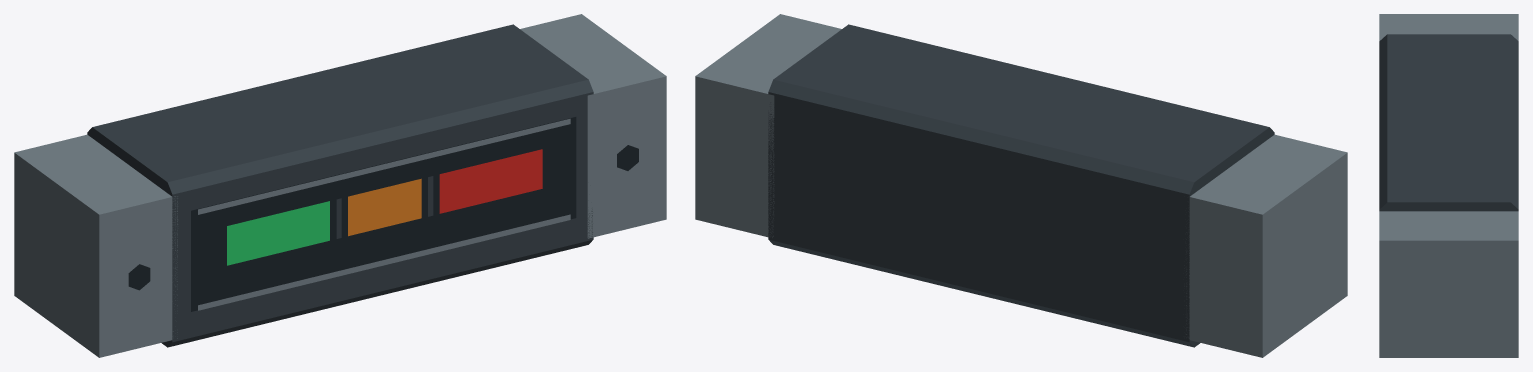
Rendered from 0-20261016-1900-ev048-r08-floor5-statuslightmount.fbx.
3 views of the same model, side by side, from view 1: azimuth 30°, elevation 25°; view 2: azimuth 150°, elevation 25°; view 3: azimuth 270°, elevation 25° (orthographic). The views are drawn at different scales.
Visible parts, largest first — view 1: SW_Ops_StatusLightMount; view 2: SW_Ops_StatusLightMount; view 3: SW_Ops_StatusLightMount.
Part boxes in pixels (x1,y1,x2,y2): SW_Ops_StatusLightMount: (14, 14, 666, 357); SW_Ops_StatusLightMount: (695, 14, 1347, 357); SW_Ops_StatusLightMount: (1379, 14, 1518, 357).
Size of the model in its own units: 53.9 by 15 by 14.32.
